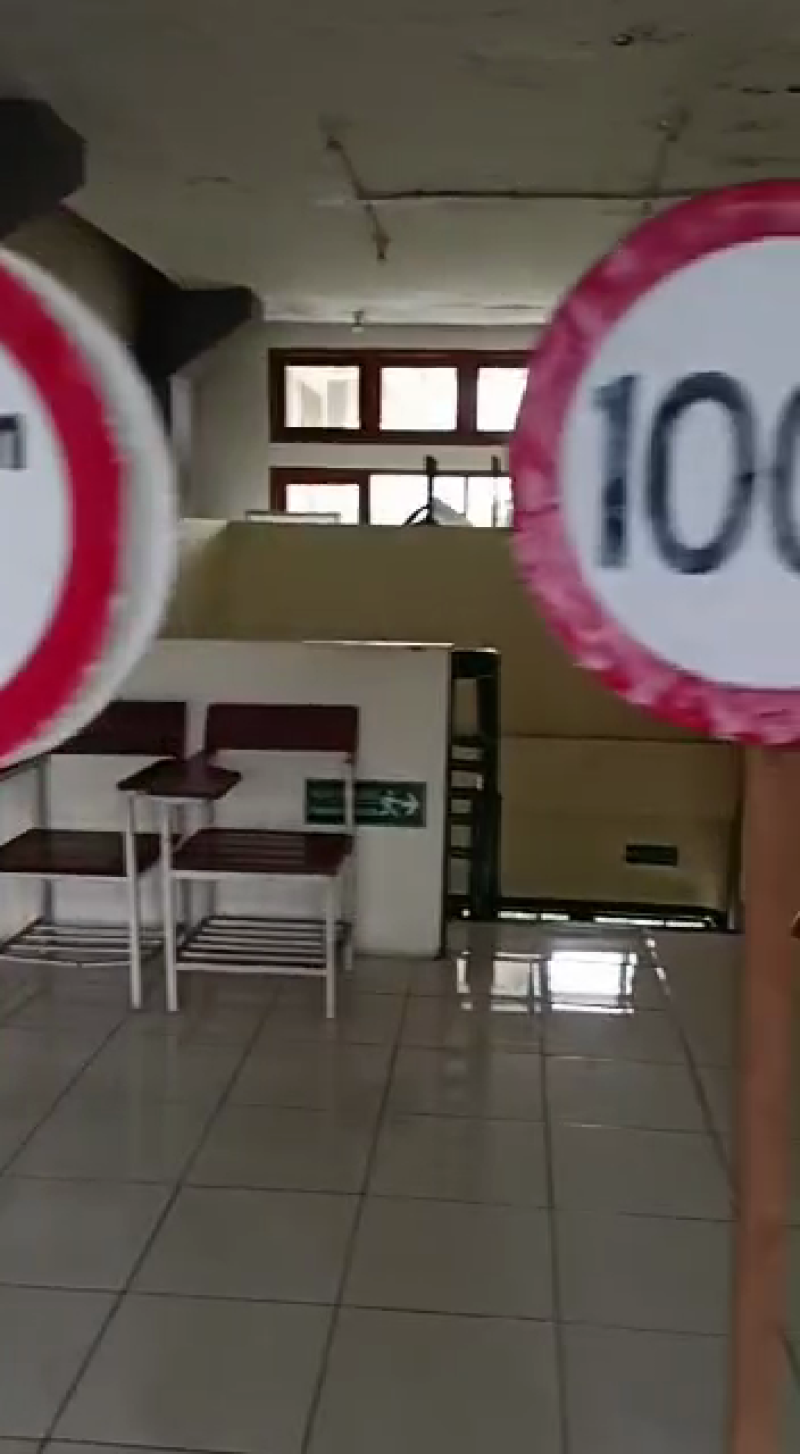batas maksimal 100kmperjam: (497, 153, 800, 766)
